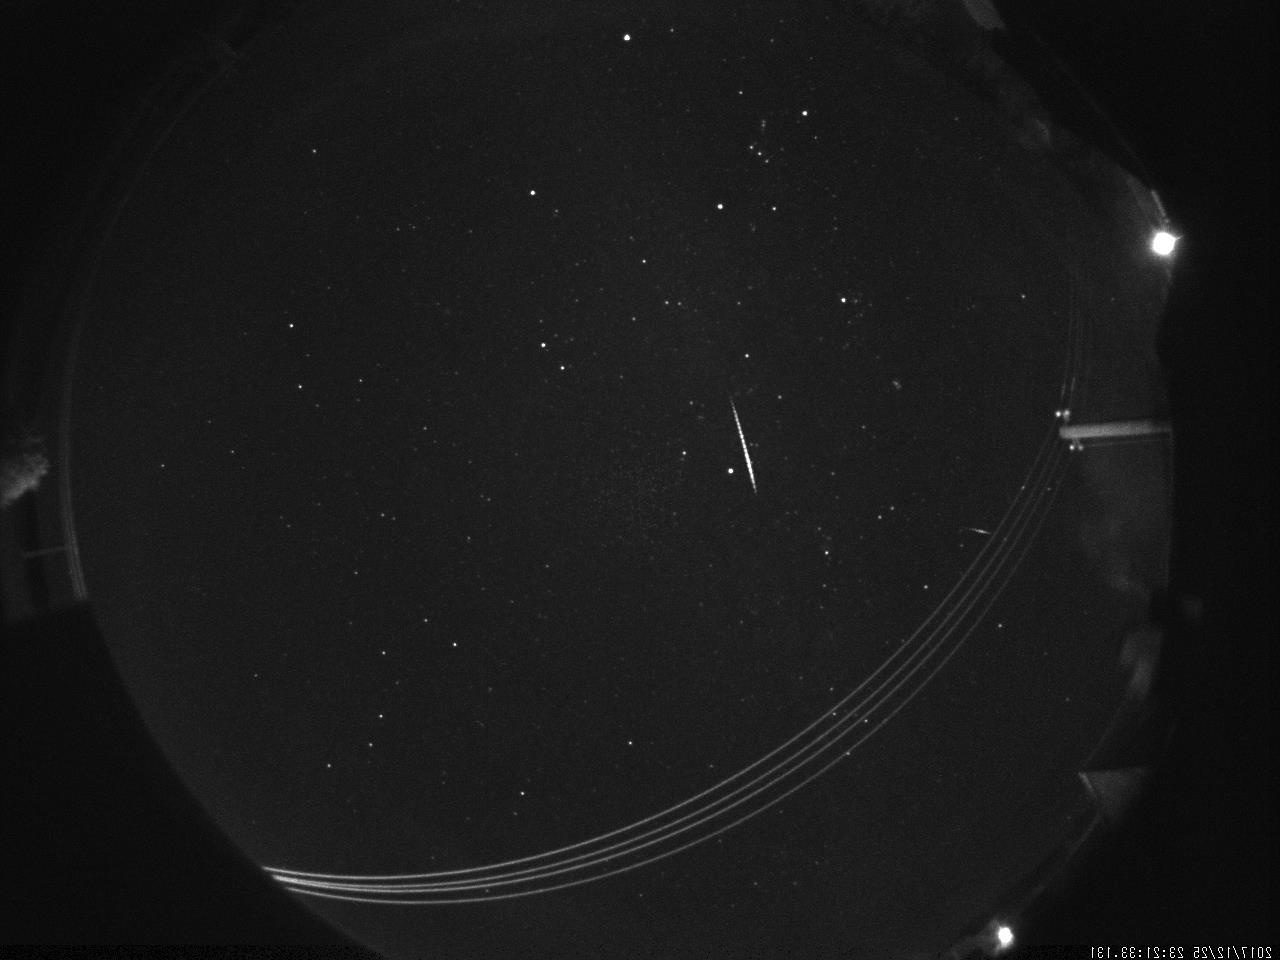meteor: (699, 382, 788, 520)
